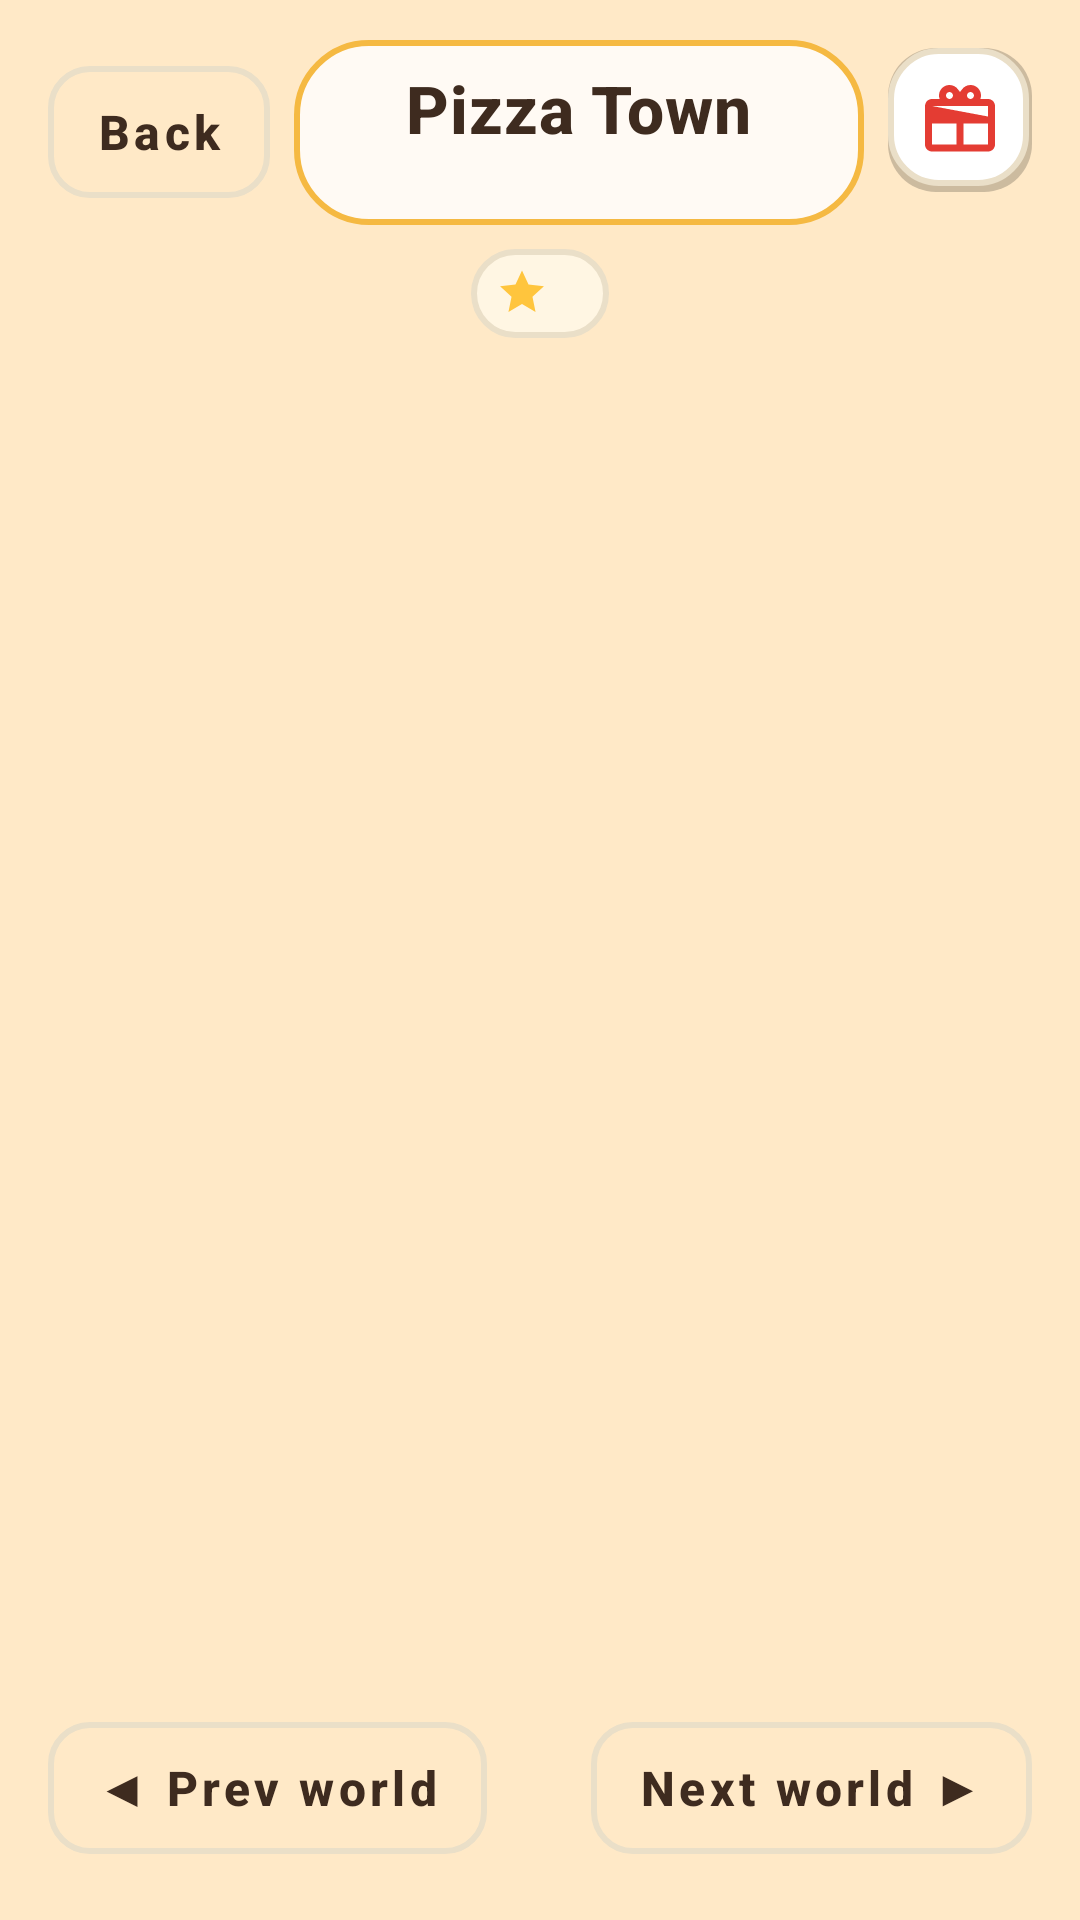

Icons on this 1080×1920 Android screen, each with its box as (x1, y1, x2, y2):
Daily reward: (888, 48, 1032, 192)
star: (500, 271, 544, 312)
